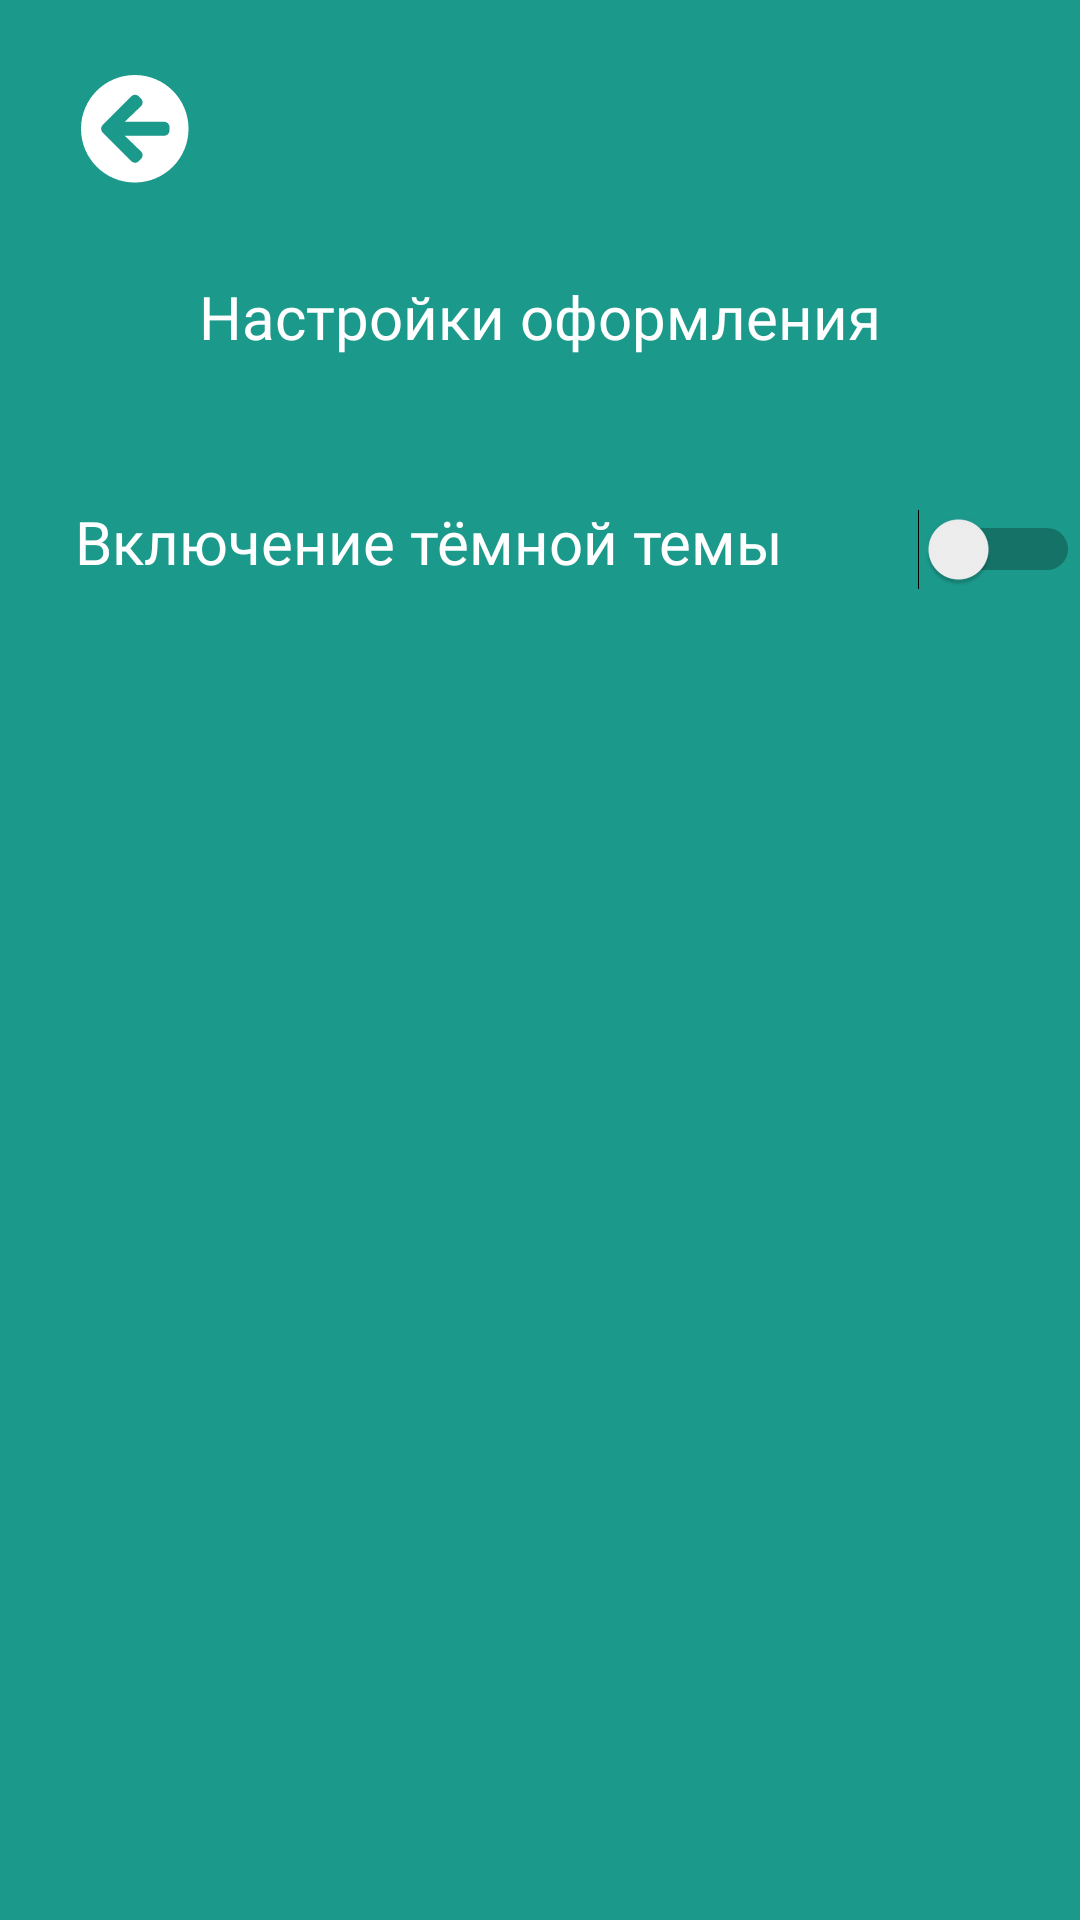

Point at icon controls on the screen. Image size 1080×1920, points as point (x, y).
Back button: point (135, 129)
